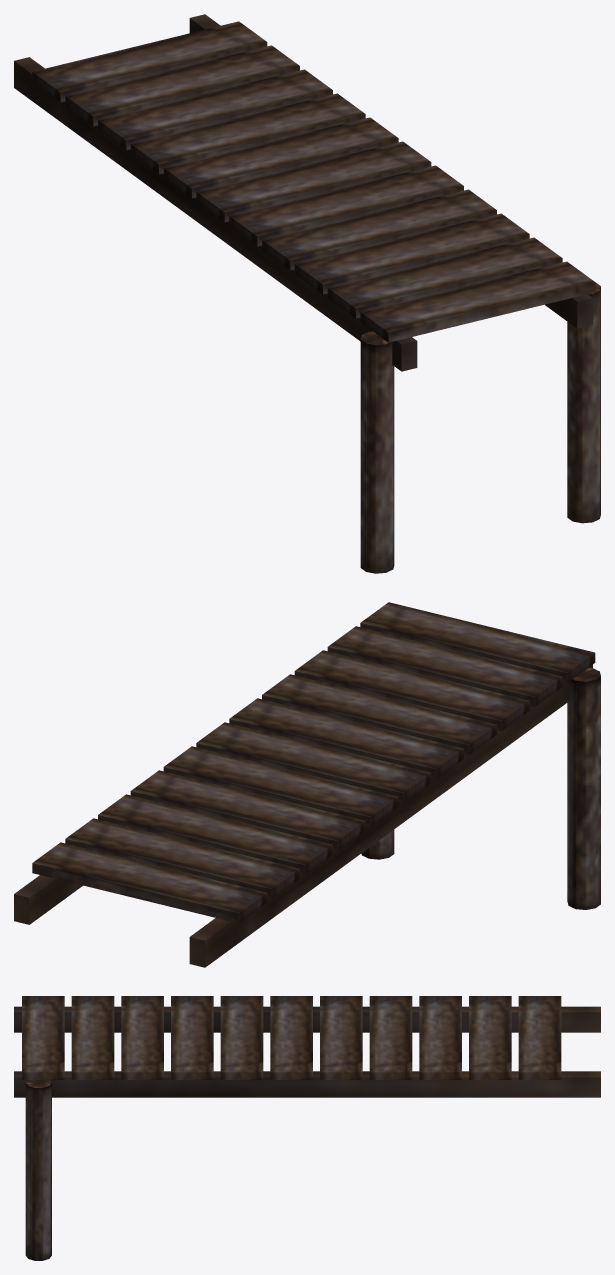
The model's file is laituri.fbx.
3 views of the same model, one above another, from view 1: azimuth 30°, elevation 25°; view 2: azimuth 150°, elevation 25°; view 3: azimuth 270°, elevation 25° (orthographic). The views are drawn at different scales.
Visible parts, largest first — view 1: lankku31; view 2: lankku31; view 3: lankku31.
Part boxes in pixels (left/top/right/bottom): lankku31: left=14, top=14, right=600, bottom=573; lankku31: left=14, top=602, right=600, bottom=967; lankku31: left=14, top=996, right=600, bottom=1260.
Bounding box in the file's own units: 2.27 × 2.24 × 6.5.
